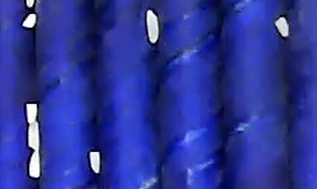broken_grain: (271, 14, 292, 40), (26, 150, 43, 180), (87, 150, 102, 176), (24, 102, 38, 124), (21, 12, 38, 30)
complete_grain: (143, 8, 161, 46), (27, 122, 42, 153)
